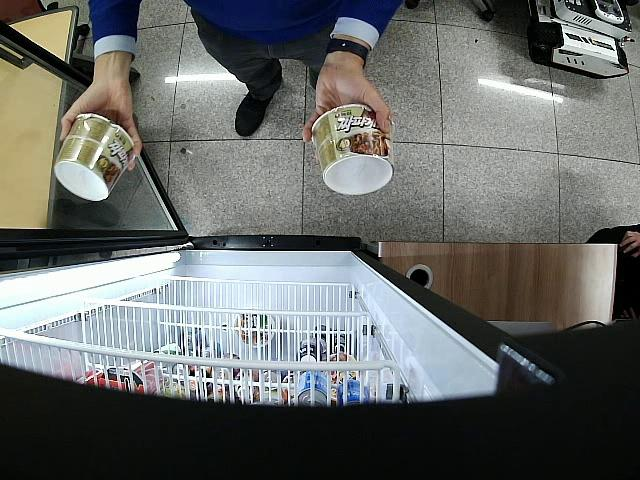00_hand: (60, 72, 142, 170), (301, 65, 392, 143)
03_chapagetti_L: (312, 104, 395, 195), (53, 113, 135, 201)
